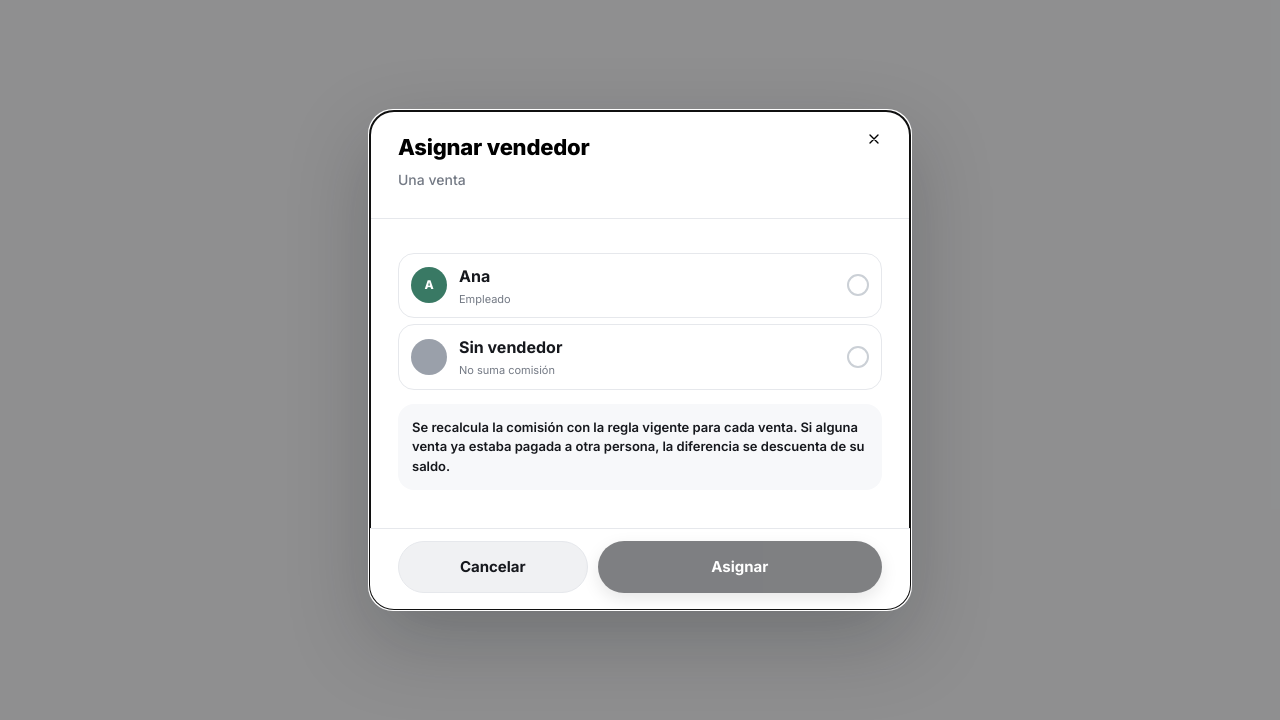
Test: asignación › keeps save failures visible even when the directory request fails later
Click the radio button labelled "A Ana Empleado". click: (429, 285)
box: x1=398 y1=252 x2=882 y2=318
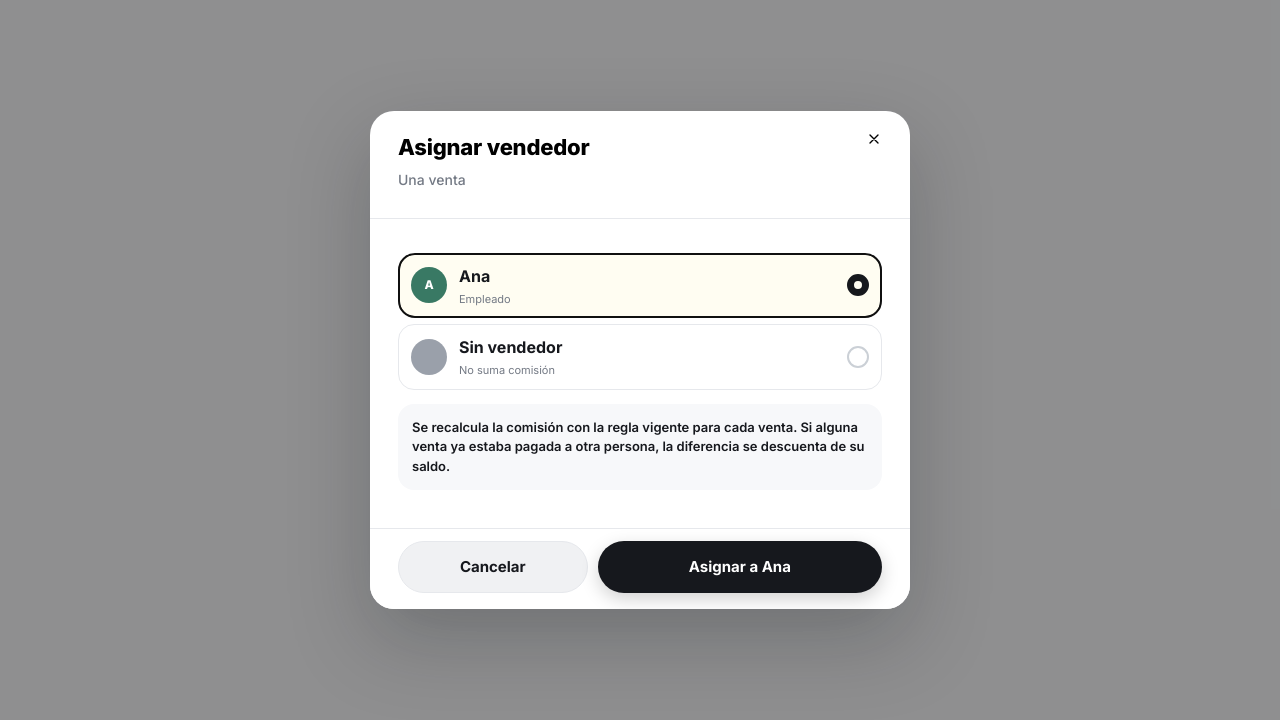
Click the button "Asignar a Ana". click: (740, 567)
box: x1=598 y1=541 x2=882 y2=593
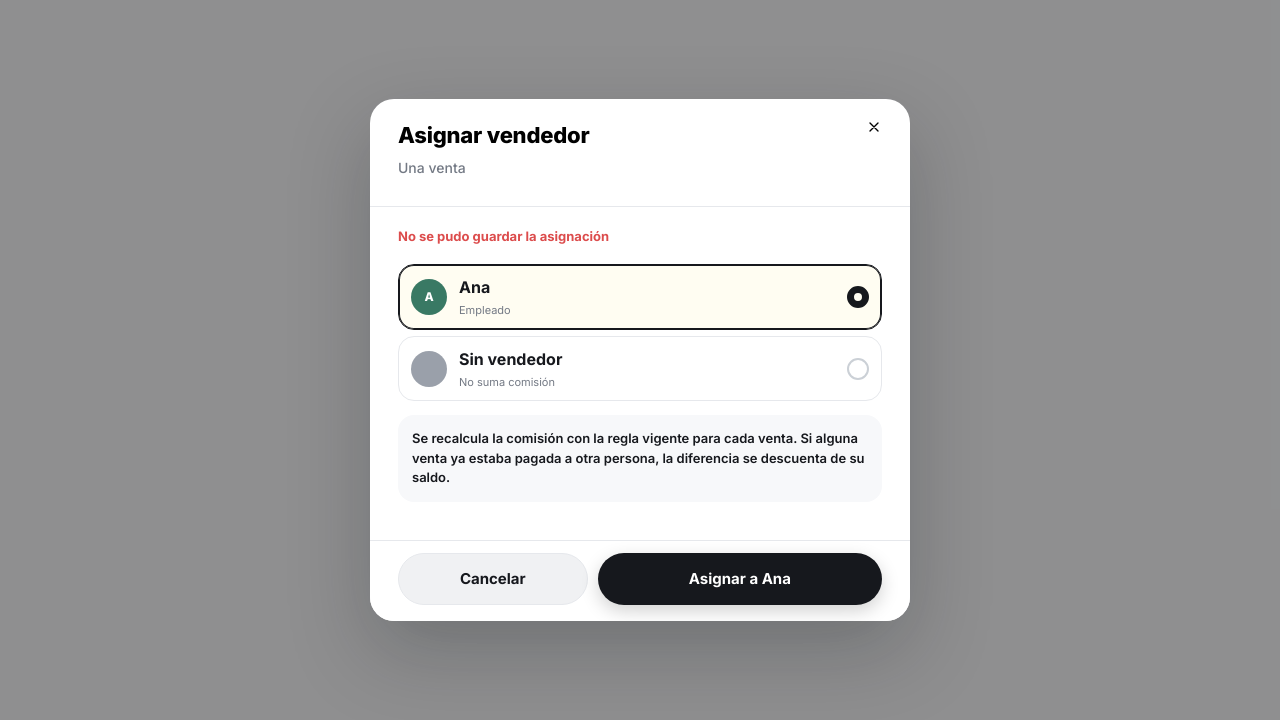
Check: the dialog is shown, box x1=370 y1=99 x2=910 y2=621
Check: the message shows "No se pudo guardar", box x1=398 y1=228 x2=609 y2=244
